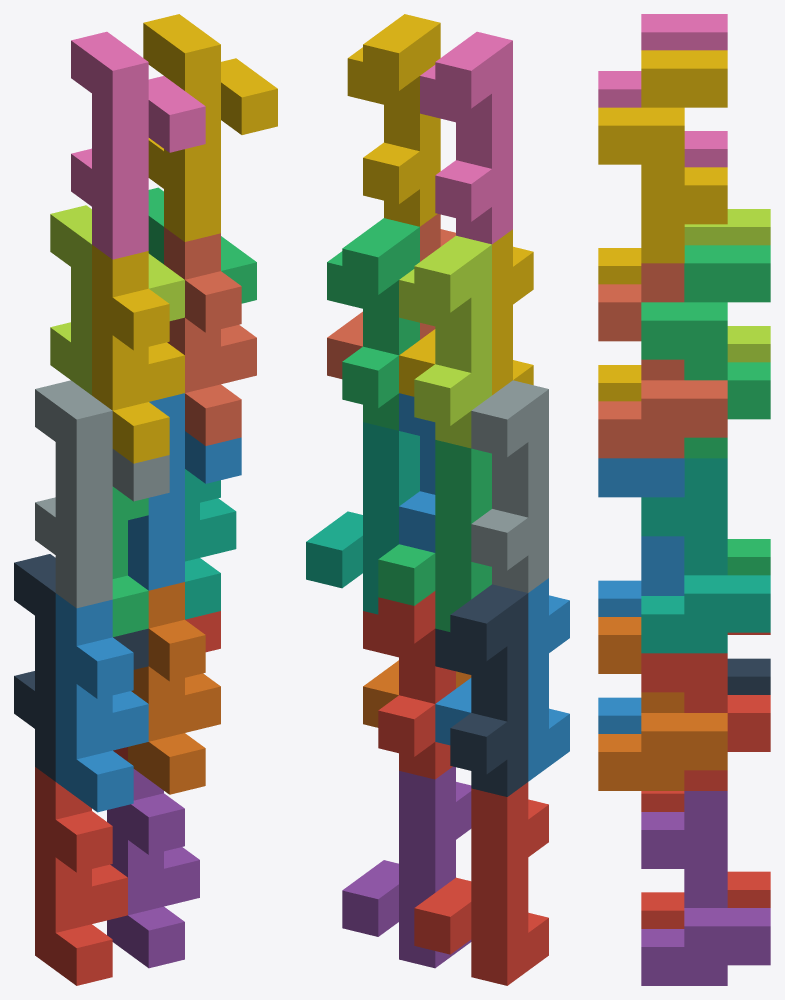
File: tiling.obj
The picture shows the model from 3 angles, left to right: view 1: azimuth 30°, elevation 25°; view 2: azimuth 150°, elevation 25°; view 3: azimuth 270°, elevation 25°; orthographic projection. The views are drawn at different scales.
Parts seen in each view (by area): view 1: copy_2_domain_4, copy_2_domain_2, copy_1_domain_2, copy_2_domain_8, copy_1_domain_1, copy_1_domain_4, copy_1_domain_8, copy_1_domain_6, copy_1_domain_5, copy_2_domain_6, copy_2_domain_1, copy_2_domain_3 (+4 smaller); view 2: copy_1_domain_1, copy_2_domain_1, copy_2_domain_4, copy_2_domain_3, copy_2_domain_2, copy_2_domain_8, copy_1_domain_5, copy_2_domain_7, copy_1_domain_3, copy_1_domain_7, copy_2_domain_5, copy_1_domain_2 (+4 smaller); view 3: copy_2_domain_8, copy_1_domain_5, copy_1_domain_7, copy_2_domain_7, copy_1_domain_8, copy_1_domain_6, copy_2_domain_5, copy_2_domain_4, copy_2_domain_6, copy_2_domain_3, copy_1_domain_1, copy_1_domain_2 (+3 smaller).
Part boxes in pixels (x1,y1,x2,y2): copy_2_domain_4: (71, 31, 205, 259); copy_2_domain_2: (35, 380, 169, 608); copy_1_domain_2: (55, 593, 148, 812); copy_2_domain_8: (143, 14, 277, 241); copy_1_domain_1: (35, 767, 127, 985); copy_1_domain_4: (92, 245, 184, 463); copy_1_domain_8: (164, 227, 256, 445); copy_1_domain_6: (128, 582, 220, 794); copy_1_domain_5: (107, 769, 199, 968); copy_2_domain_6: (128, 393, 241, 590); copy_2_domain_1: (14, 554, 148, 781); copy_2_domain_3: (50, 205, 184, 395); copy_1_domain_1: (414, 782, 548, 985); copy_2_domain_1: (435, 584, 528, 796); copy_2_domain_4: (420, 31, 512, 244); copy_2_domain_3: (399, 235, 491, 448); copy_2_domain_2: (471, 380, 548, 592); copy_2_domain_8: (347, 14, 440, 226); copy_1_domain_5: (342, 766, 471, 968); copy_2_domain_7: (327, 218, 419, 430); copy_1_domain_3: (378, 440, 491, 631); copy_1_domain_7: (306, 422, 419, 614); copy_2_domain_5: (363, 591, 455, 779); copy_1_domain_2: (435, 578, 569, 781); copy_2_domain_8: (598, 50, 727, 263); copy_1_domain_5: (641, 791, 770, 985); copy_1_domain_7: (641, 458, 770, 653); copy_2_domain_7: (641, 245, 770, 458); copy_1_domain_8: (598, 263, 727, 458); copy_1_domain_6: (598, 617, 727, 790); copy_2_domain_5: (641, 632, 770, 790); copy_2_domain_4: (598, 14, 727, 167); copy_2_domain_6: (598, 458, 684, 595); copy_2_domain_3: (684, 209, 770, 362); copy_1_domain_1: (641, 791, 770, 928); copy_1_domain_2: (598, 580, 641, 733).
Size of the model in its own units: 5 by 24 by 4.
